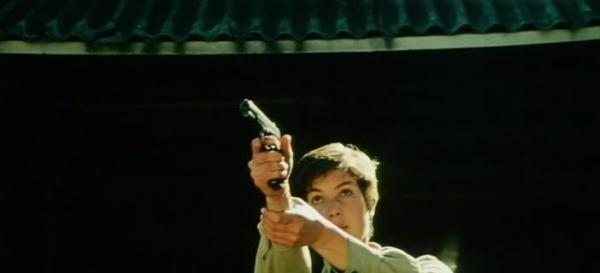Gun: (237, 98, 287, 190)
